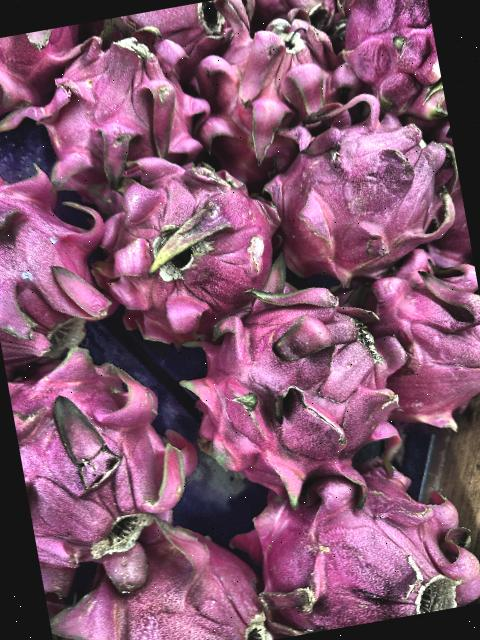buah-naga-matang: (171, 263, 416, 507), (4, 328, 214, 586), (229, 450, 480, 640), (82, 136, 290, 344), (248, 84, 449, 276), (24, 11, 198, 181), (334, 231, 480, 430), (0, 141, 118, 375), (40, 522, 270, 640), (189, 11, 352, 170), (332, 0, 446, 124), (101, 0, 261, 76), (0, 24, 92, 131), (247, 0, 348, 35)
